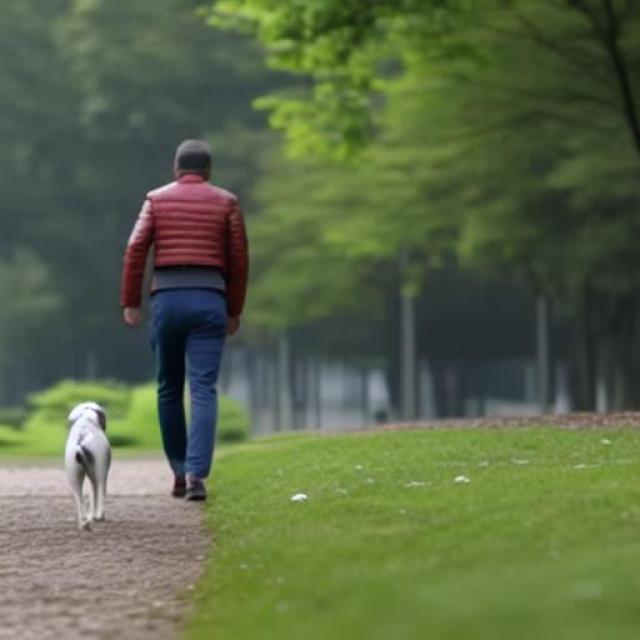Unleashed_Dog: (66, 282, 226, 532)
